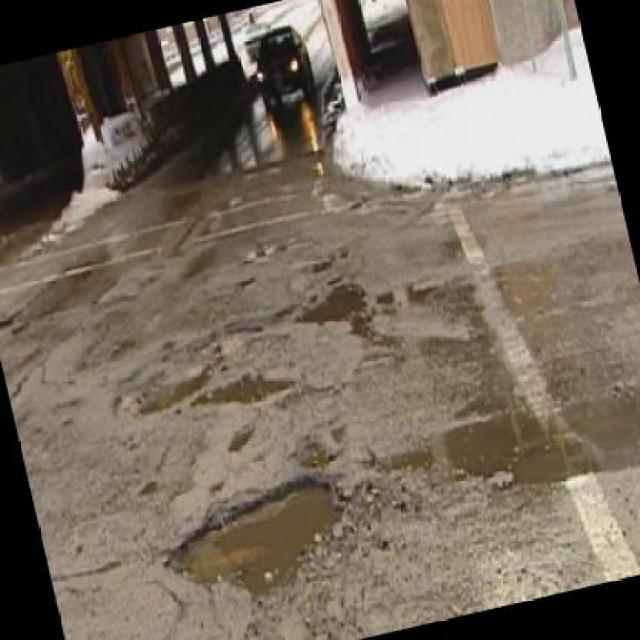pothole1: (151, 462, 367, 618), (431, 368, 638, 515), (104, 348, 233, 430), (189, 359, 300, 416), (286, 268, 374, 334)
